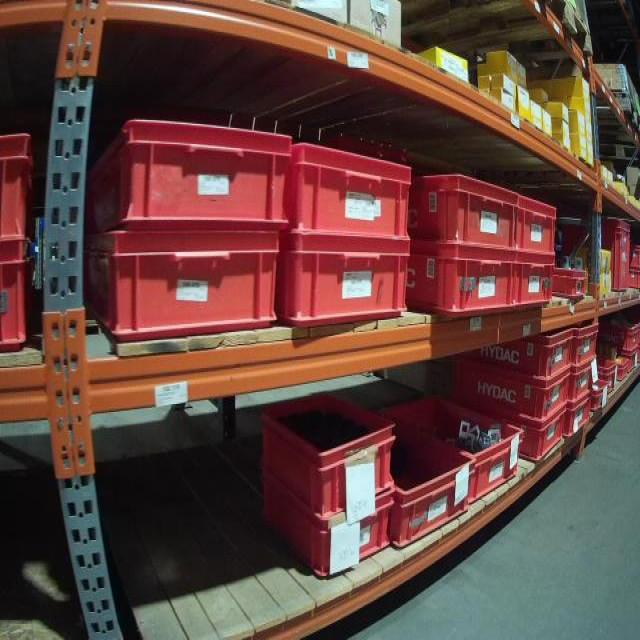pallet: (401, 3, 597, 84), (580, 96, 639, 138), (598, 144, 640, 163)
small_load_carrier: (90, 119, 290, 233), (88, 234, 279, 342), (259, 392, 396, 520), (292, 136, 414, 253), (402, 395, 522, 508), (280, 237, 409, 326), (398, 419, 475, 555), (416, 173, 518, 261), (410, 248, 515, 318), (278, 520, 393, 581), (453, 330, 575, 386), (463, 372, 573, 426), (563, 219, 633, 296), (2, 133, 30, 258), (1, 251, 30, 352), (515, 413, 573, 460), (520, 196, 558, 265), (515, 265, 554, 308), (596, 315, 638, 351), (599, 352, 634, 385), (574, 317, 595, 371), (556, 264, 588, 299), (571, 397, 596, 433), (571, 371, 595, 402), (601, 357, 616, 397), (595, 383, 611, 413), (619, 353, 636, 376), (633, 243, 640, 265), (633, 264, 638, 285)
